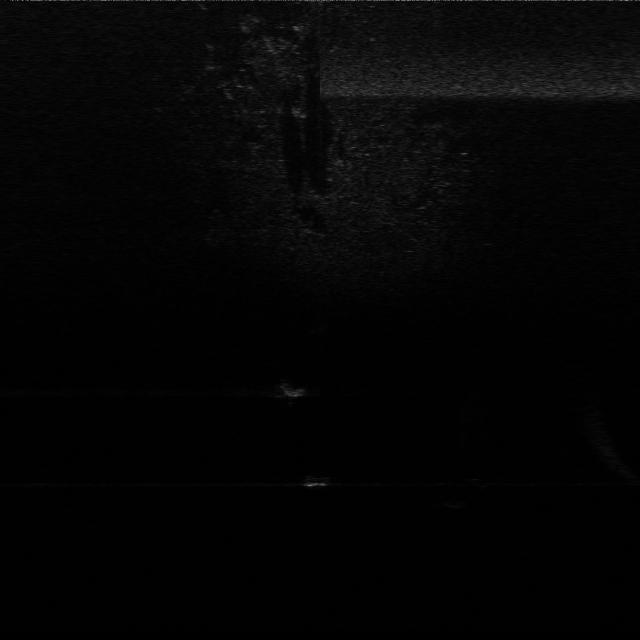cube: (297, 469, 343, 490)
square cage: (273, 376, 316, 404)
